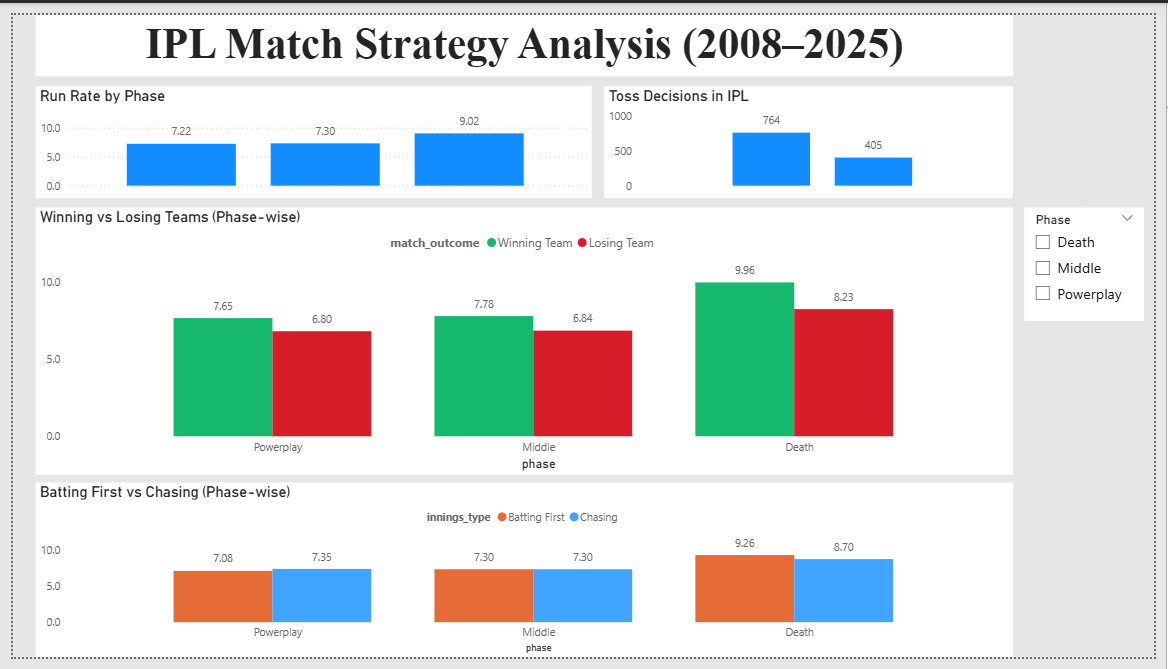

This screenshot's page, from the dashboard's own definition file:
{"tool":"powerbi","page":{"name":"IPL Match Strategy Analysis","canvas":[1280,720],"ordinal":0},"visuals":[{"type":"clusteredColumnChart","title":"Run Rate by Phase","fields":{"Category":["Phase.phase"],"Y":["Sum(Phase.run_rate)"]},"box":[25.7,80,624.3,125.7],"z":0},{"type":"clusteredColumnChart","title":"Batting First vs Chasing (Phase-wise)","fields":{"Category":["ChasePhase.phase"],"Y":["Sum(ChasePhase.run_rate)"],"Series":["ChasePhase.innings_type"]},"box":[25,524.5,1096.7,196.7],"z":1000},{"type":"clusteredColumnChart","title":"Winning vs Losing Teams (Phase-wise)","fields":{"Category":["WinLossPhase.phase"],"Series":["WinLossPhase.match_outcome"],"Y":["Sum(WinLossPhase.run_rate)"]},"box":[25,215.8,1096.7,300.4],"z":2000},{"type":"clusteredColumnChart","title":"Toss Decisions in IPL","fields":{"Category":["Toss.toss_decision"],"Y":["Sum(Toss.matches)"]},"box":[662.9,80,458.6,125.7],"z":3000},{"type":"textbox","box":[25,0,1096.7,69.1],"z":4000},{"type":"slicer","fields":{"Values":["WinLossPhase.phase"]},"box":[1134.3,215.7,134.3,127.1],"z":5000}]}

Visuals, with their boxes in screenshot pixels (x1, y1, x2, y2), scaled from the page's 1280x720 canvas onto the 1168x669 screenshot:
"Run Rate by Phase" clusteredColumnChart: 23:74:593:191
"Batting First vs Chasing (Phase-wise)" clusteredColumnChart: 23:487:1024:668
"Winning vs Losing Teams (Phase-wise)" clusteredColumnChart: 23:201:1024:480
"Toss Decisions in IPL" clusteredColumnChart: 605:74:1023:191
textbox: 23:0:1024:64
slicer - WinLossPhase.phase: 1035:200:1158:319
